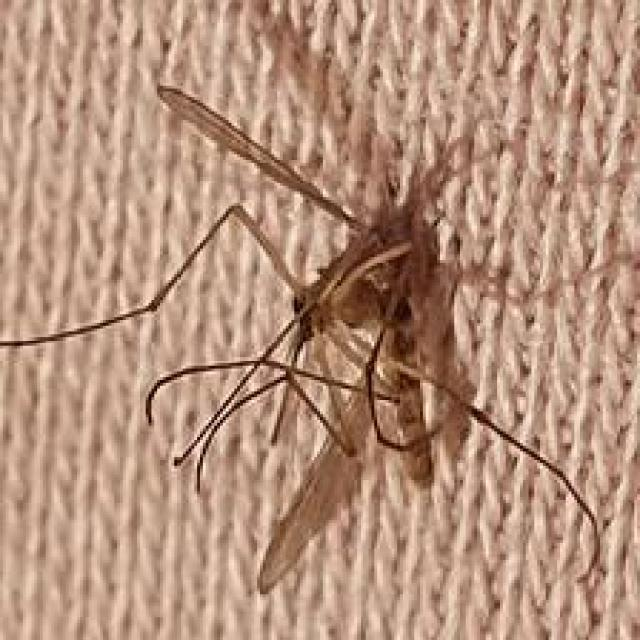Culex: (0, 81, 603, 596)
